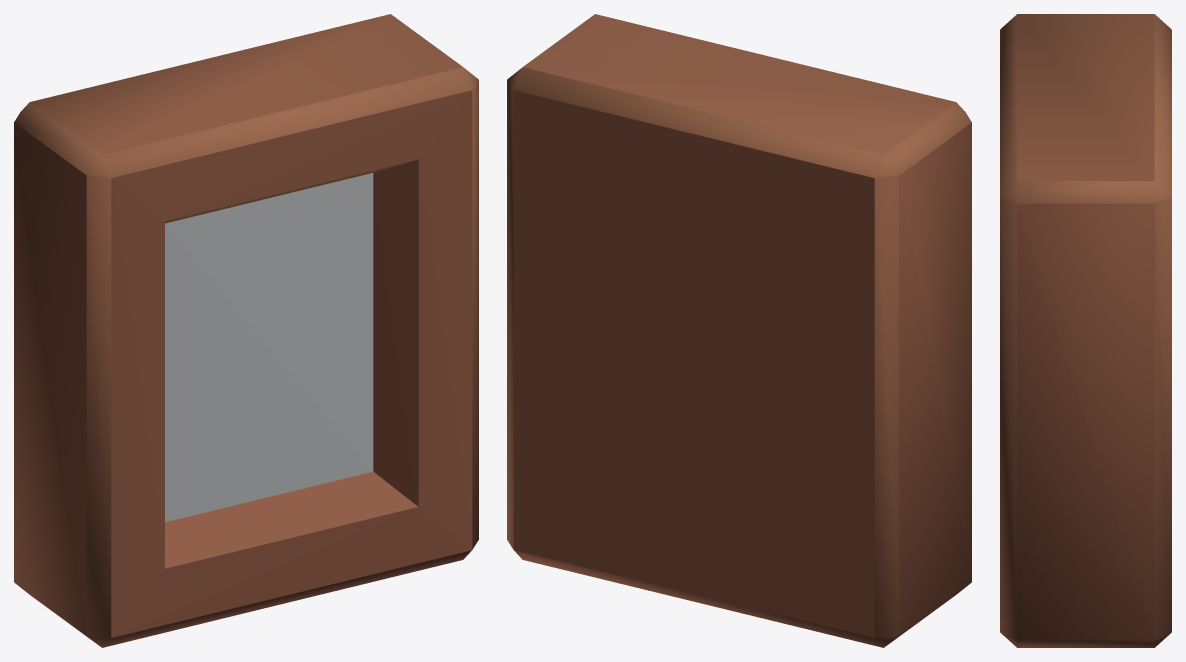
Rendered from kk_furniture_pictureframe_small_A.glb.
The picture shows the model from 3 angles, left to right: view 1: azimuth 30°, elevation 25°; view 2: azimuth 150°, elevation 25°; view 3: azimuth 270°, elevation 25°; orthographic projection. The views are drawn at different scales.
Visible parts, largest first — view 1: kk_furniture_pictureframe_small_A; view 2: kk_furniture_pictureframe_small_A; view 3: kk_furniture_pictureframe_small_A.
Part boxes in pixels (x1,y1,x2,y2): kk_furniture_pictureframe_small_A: (14,14,478,647); kk_furniture_pictureframe_small_A: (507,14,971,647); kk_furniture_pictureframe_small_A: (1000,14,1171,647).
Bounding box in the file's own units: 0.5 × 0.6 × 0.2.
